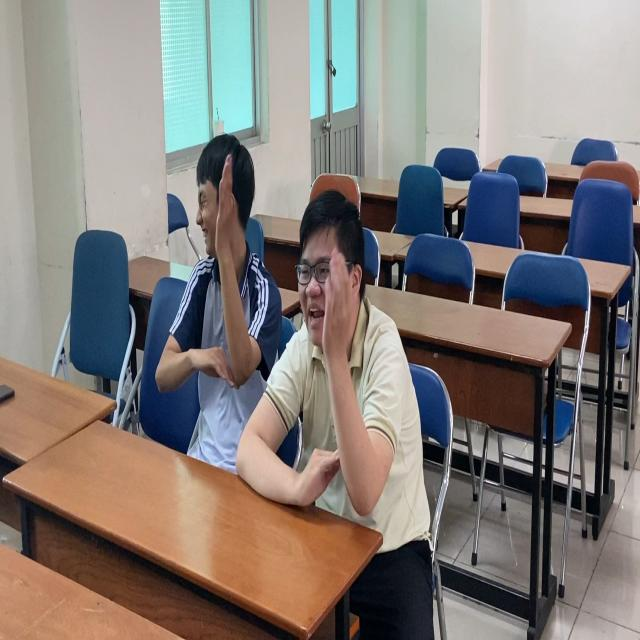raise_hand: (262, 180, 435, 551), (155, 127, 284, 485)
